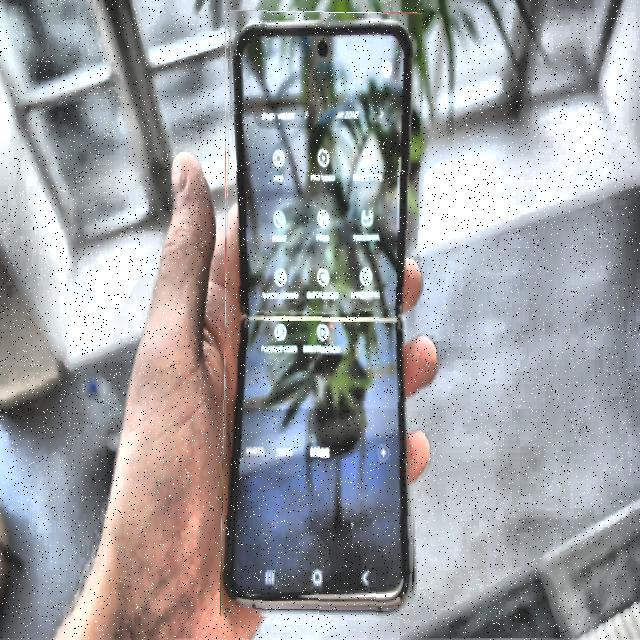Phone: (222, 11, 420, 618)
